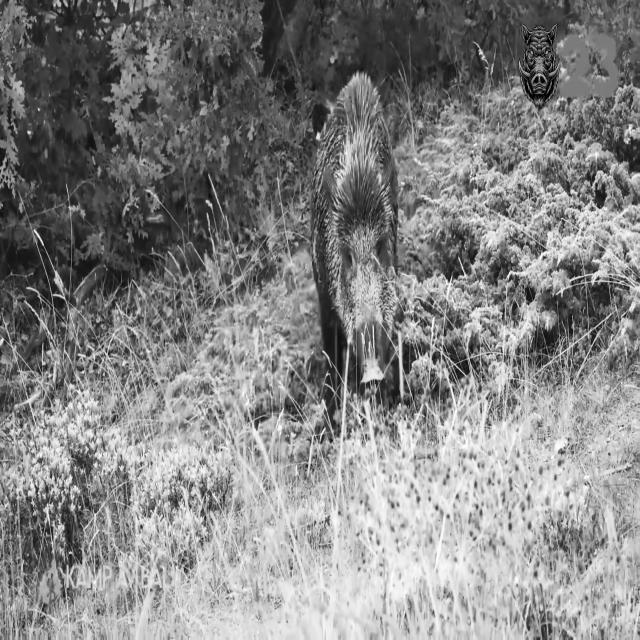boar: (311, 72, 397, 423)
